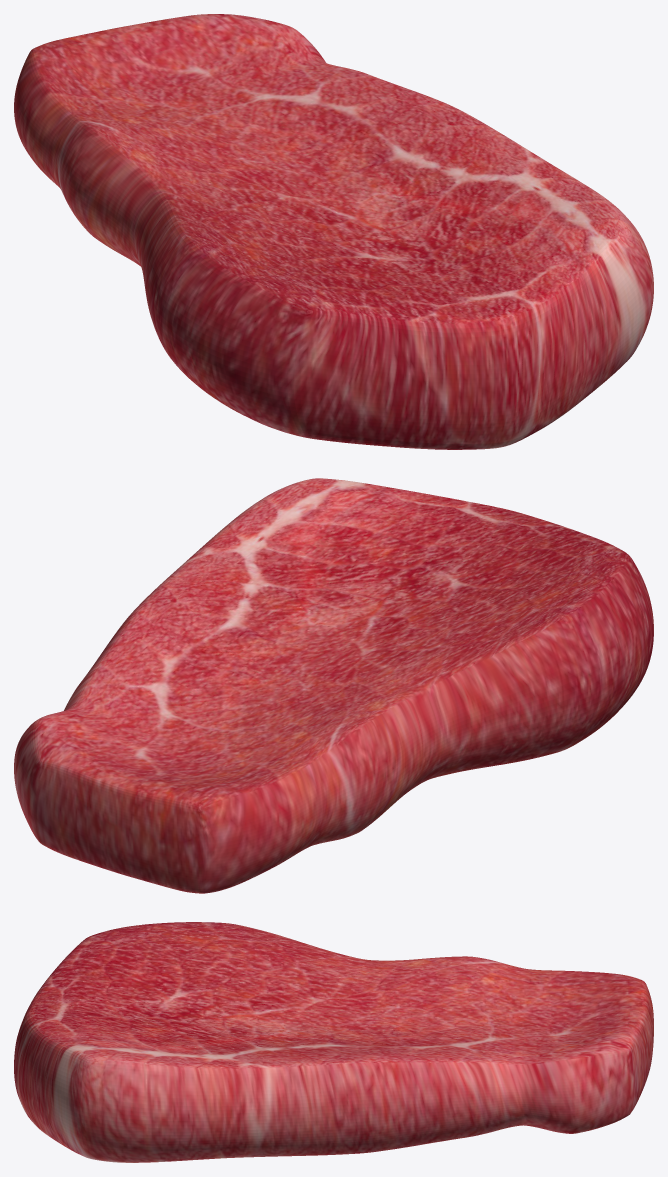
The model's file is RawBeef.fbx.
3 views of the same model, one above another, from view 1: azimuth 30°, elevation 25°; view 2: azimuth 150°, elevation 25°; view 3: azimuth 270°, elevation 25° (orthographic). The views are drawn at different scales.
Visible parts, largest first — view 1: RawBeef; view 2: RawBeef; view 3: RawBeef.
Boxes of the visible parts, left/top/right/bottom form: RawBeef: left=14, top=14, right=653, bottom=449; RawBeef: left=14, top=478, right=653, bottom=893; RawBeef: left=14, top=922, right=653, bottom=1162.
Size of the model in its own units: 434 by 152 by 716.
